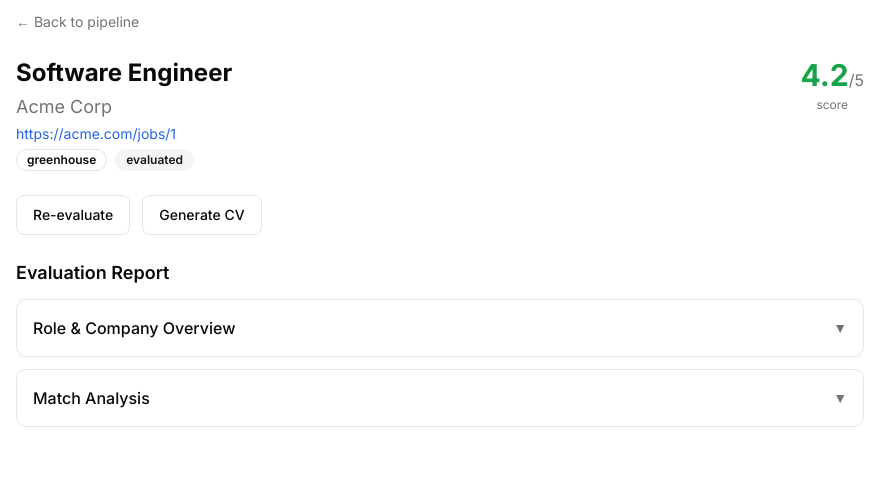
Job detail page (app/jobs/[id]/page.tsx) › renders expandable report blocks and toggles content on click
Expected: the text "Great role." is not shown
Click the text "Role & Company Overview": {"x": 134, "y": 328} left=33, top=316, right=235, bottom=340
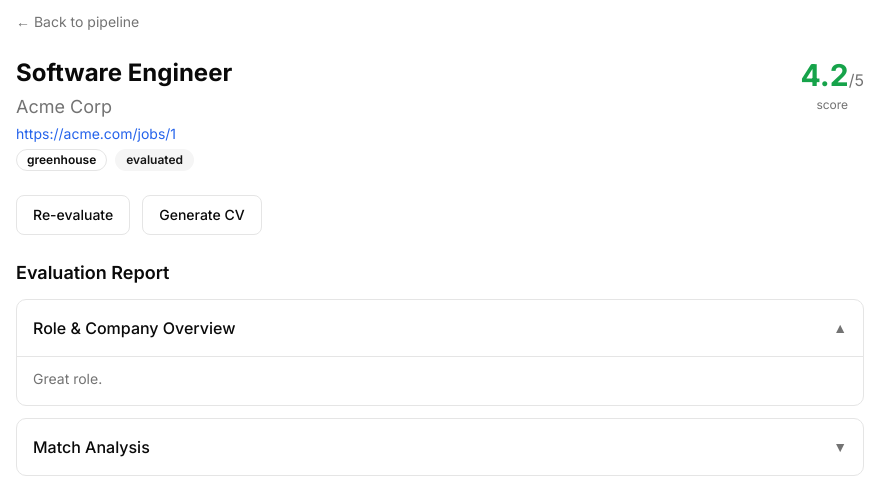
Expected: the text "Great role." is shown, left=17, top=356, right=863, bottom=405
